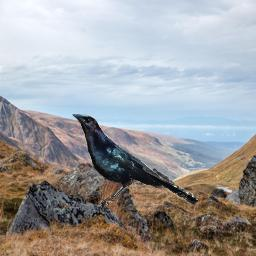Crow: (72, 114, 199, 212)
